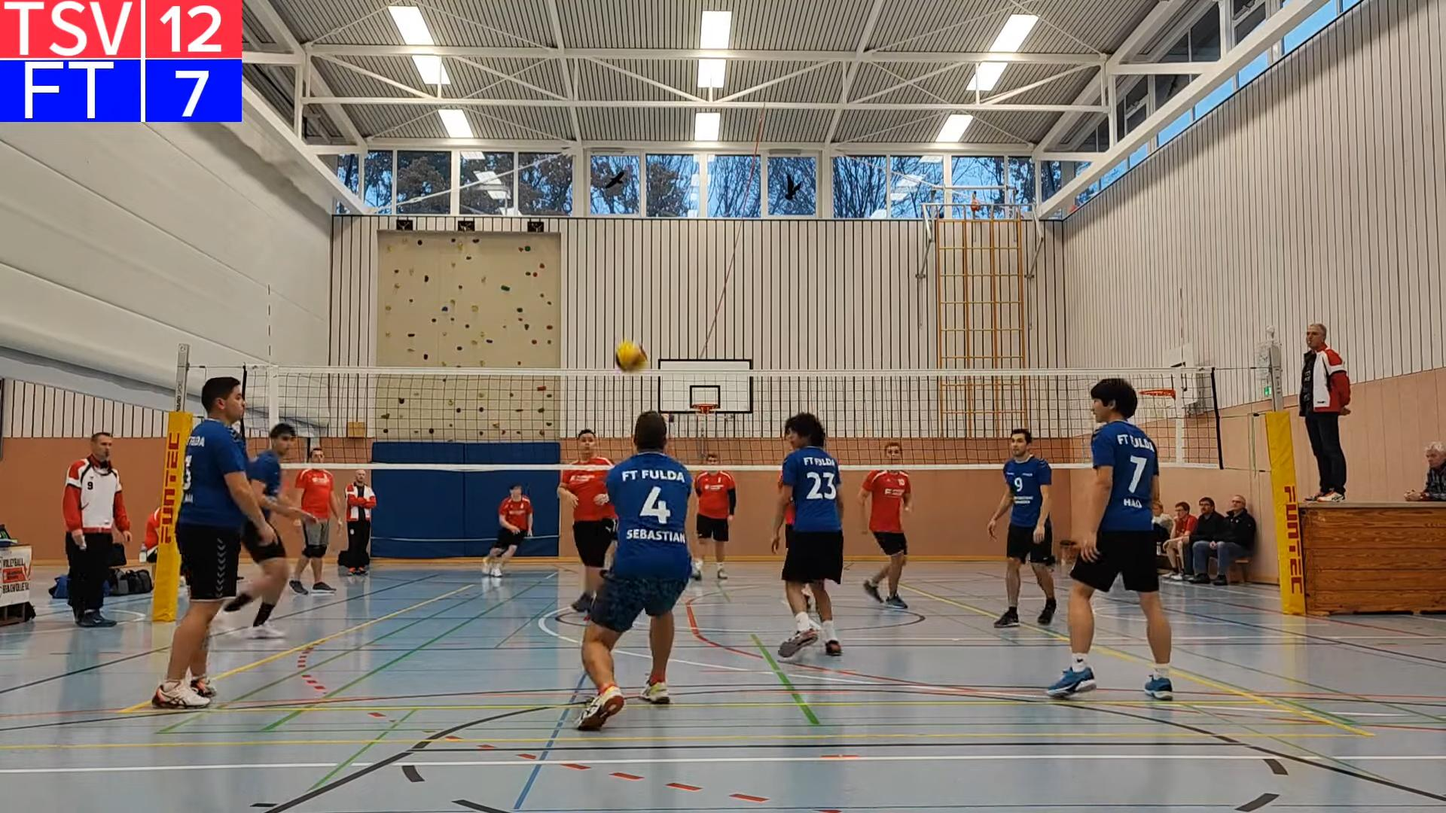ricezione: (568, 410, 690, 738)
